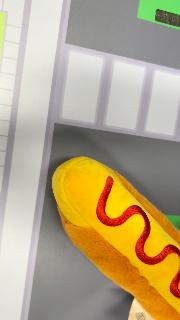hotdog: (52, 156, 180, 318)
